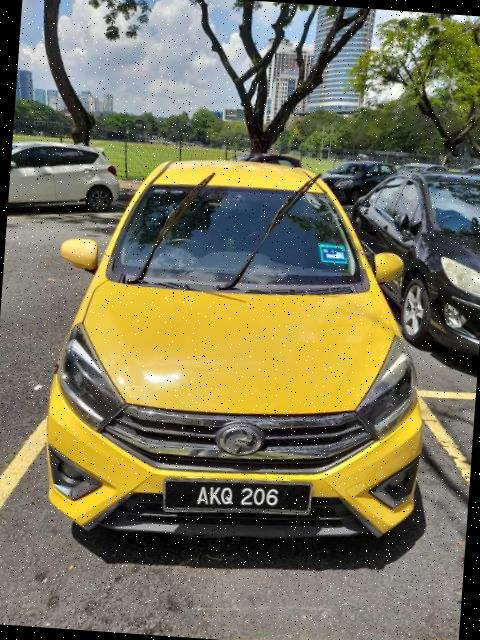License_Plate: (162, 472, 314, 522)
car: (38, 142, 442, 555), (8, 140, 123, 218)
